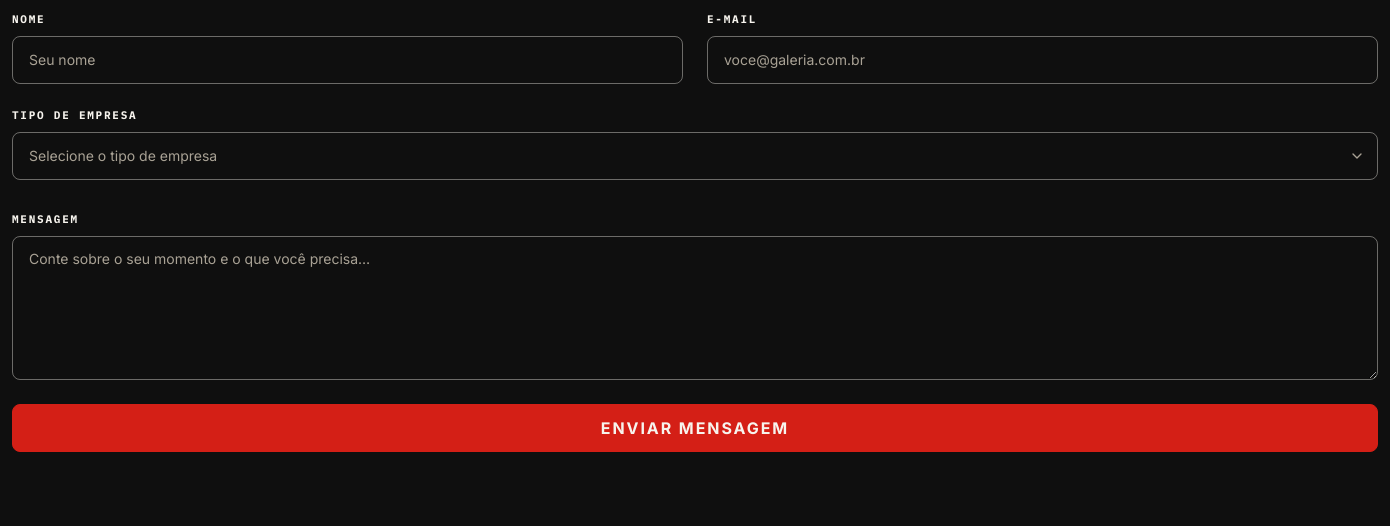
Test: ContactForm (Fase 4.2/4.7 / RF-08) › estado error — toast de erro quando a API responde com falha
Type "Ana Souza" into the field labelled "Nome" at (348, 60), box [12,36,683,84]
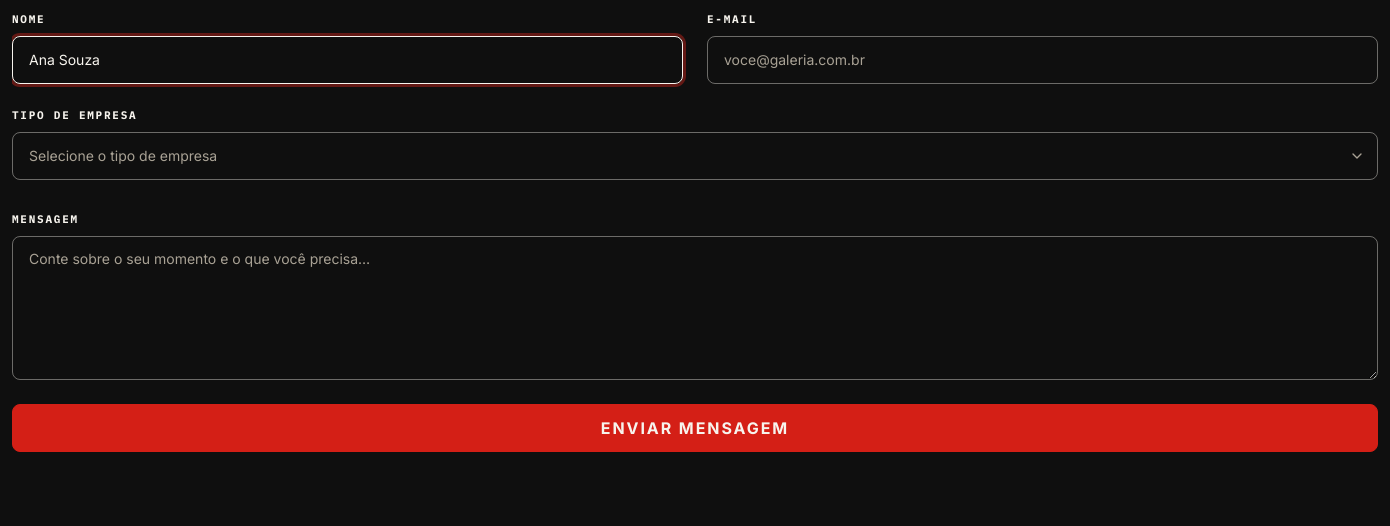
Type "ana@galeria.com.br" into the field labelled "E-mail" at (1042, 60), box [707,36,1378,84]
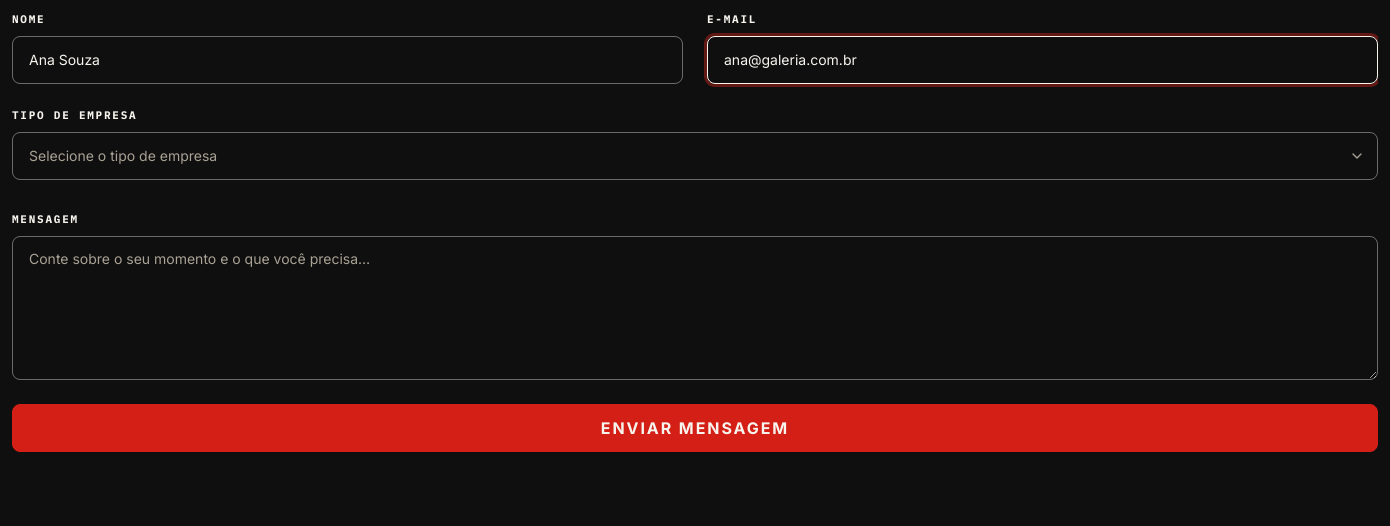
Click the dropdown at (123, 155), box [12,132,1378,180]
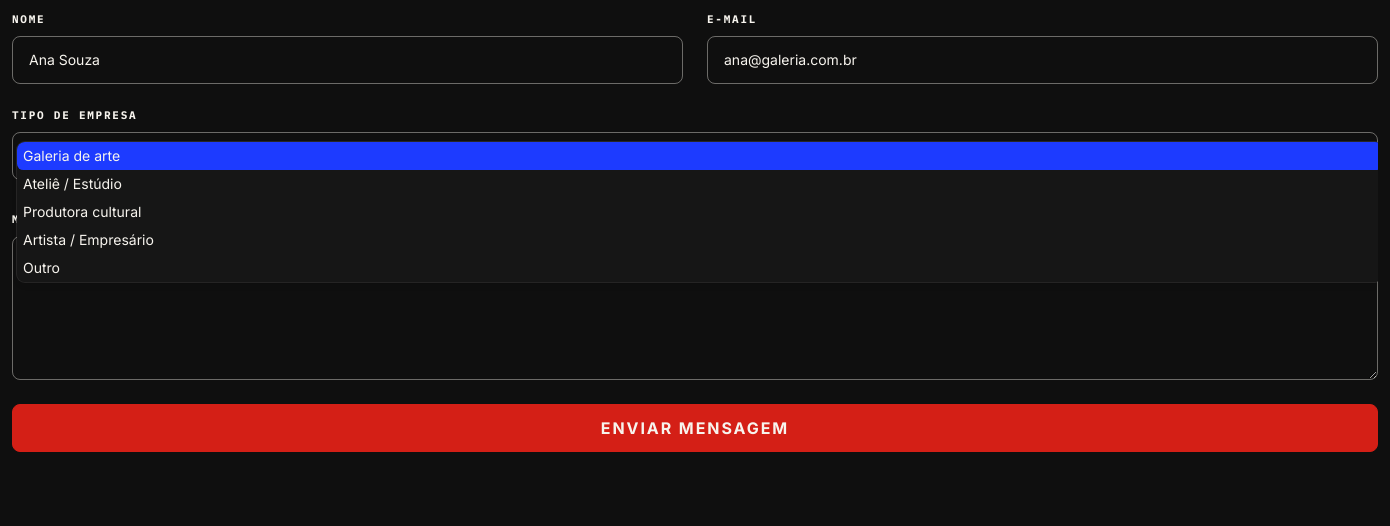
Click the option "Galeria de arte" at (72, 155), box [17,142,1378,170]
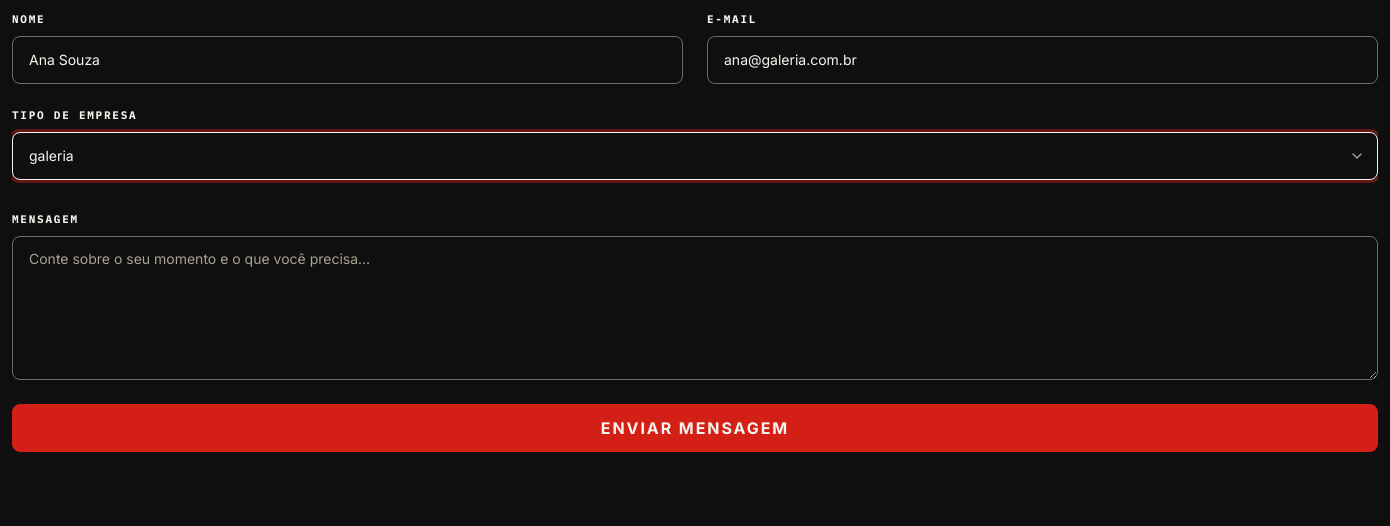
Type "Quero uma proposta para minha galeria de arte." into the text box labelled "Mensagem" at (695, 308), box [12,236,1378,380]
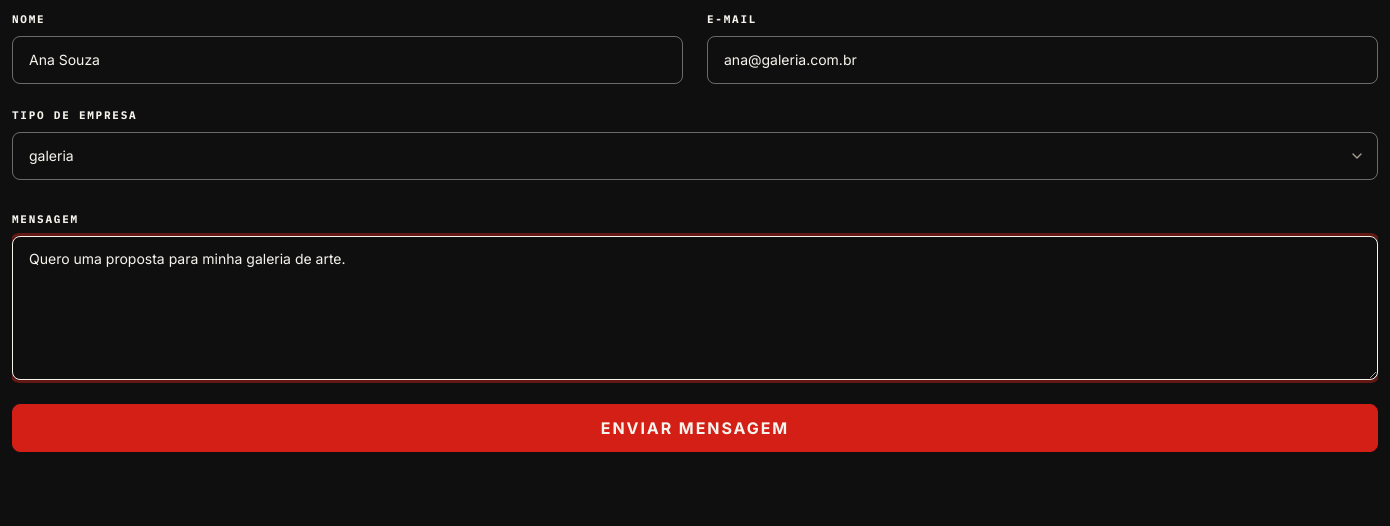
Click the button "ENVIAR MENSAGEM" at (695, 428), box [12,404,1378,452]
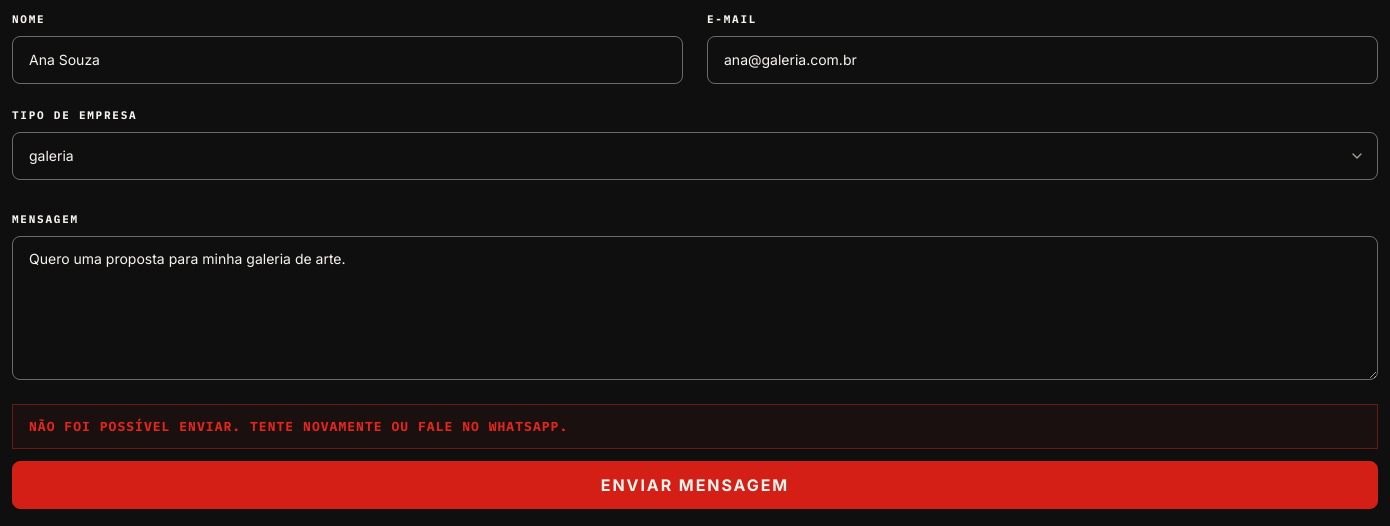
expect the text "Não foi possível enviar. Tente novamente" is shown: met, box [29,418,568,435]
